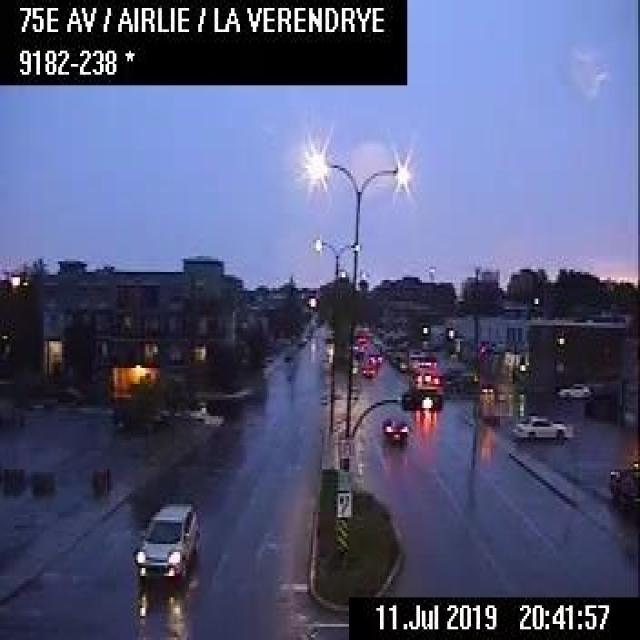construction: (94, 468, 102, 492)
vehicle: (131, 496, 198, 584), (509, 412, 575, 442), (554, 381, 596, 400), (381, 413, 407, 443), (445, 370, 476, 389), (413, 369, 442, 384), (360, 360, 376, 375), (368, 352, 384, 363)
